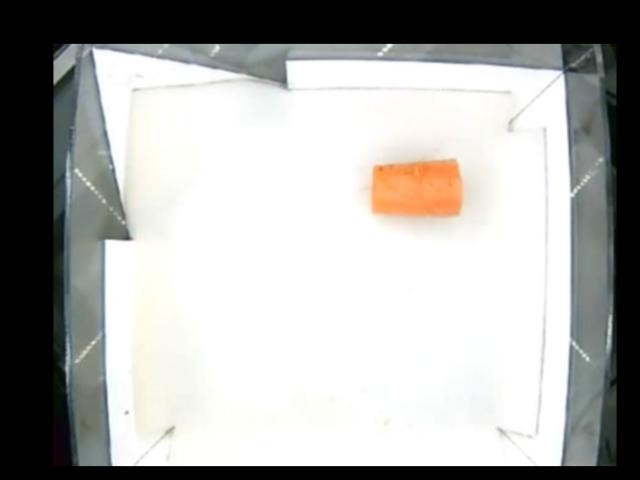Carrot: (370, 157, 463, 217)
